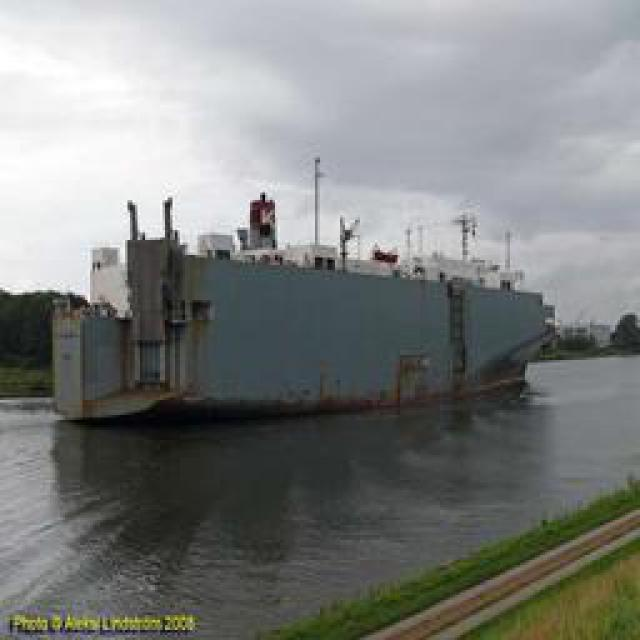Ship: (65, 173, 553, 428)
